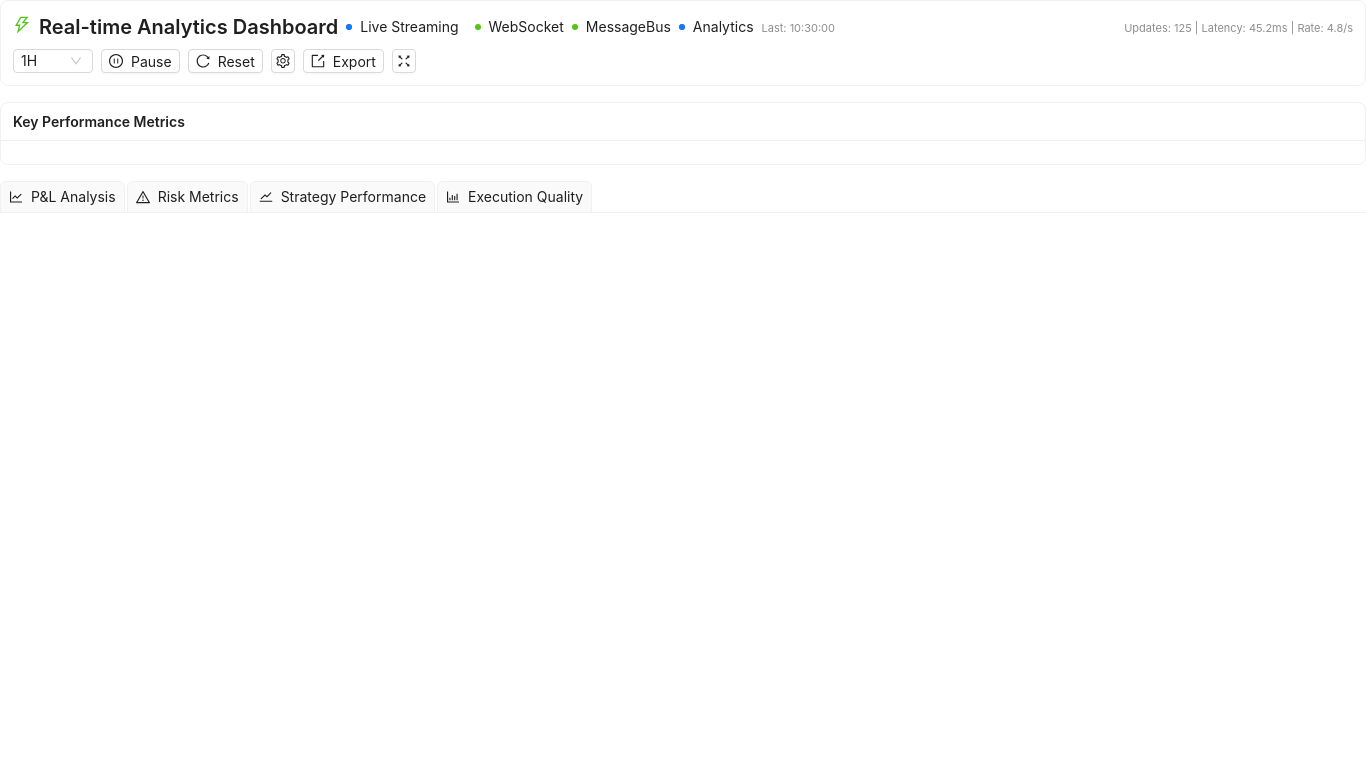
Test case: RealTimeAnalyticsDashboard › Risk Alerts › shows success message when no alerts
The width and height of the screenshot is (1366, 768).
Click the tab "Risk Metrics": (187, 197) [136,186,239,208]
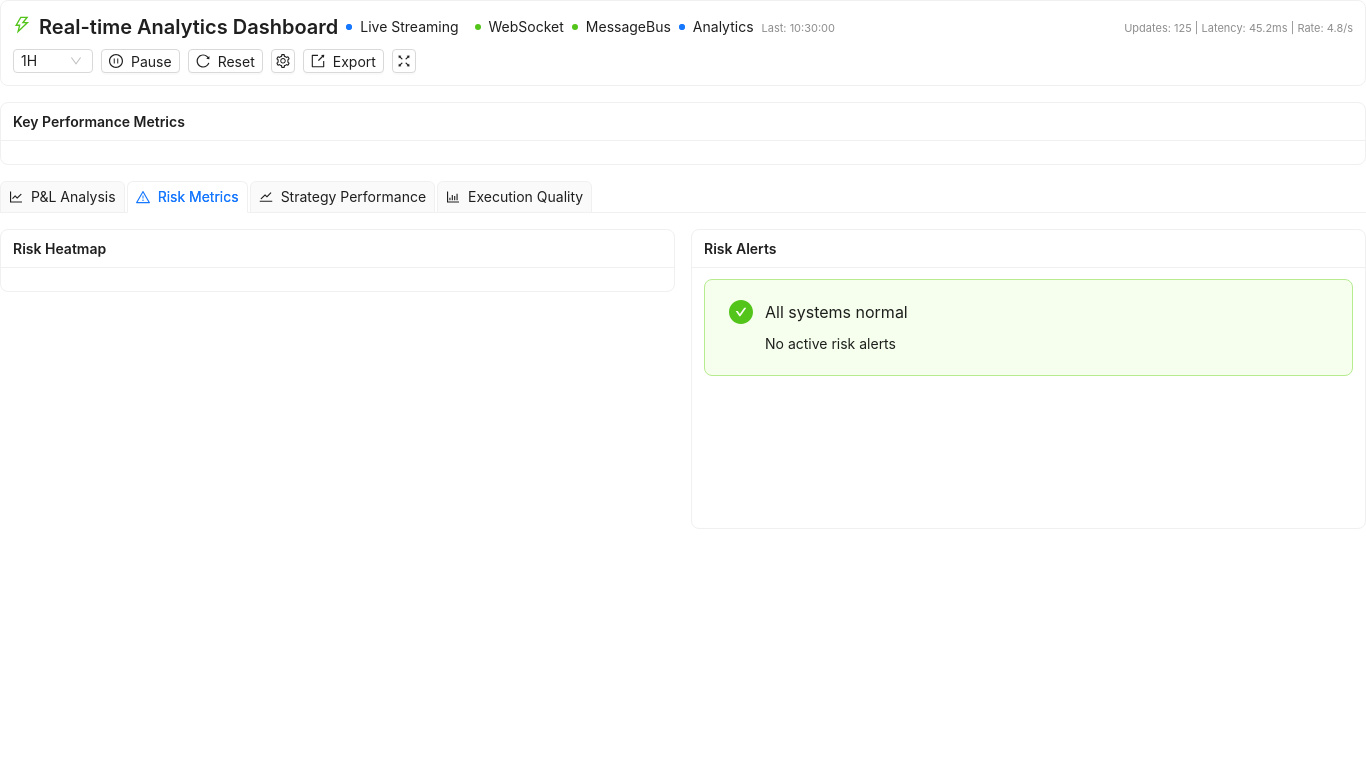
Expected: the text "All systems normal" is shown, [765,302,908,322]
Expected: the text "No active risk alerts" is shown, [765,335,896,352]
